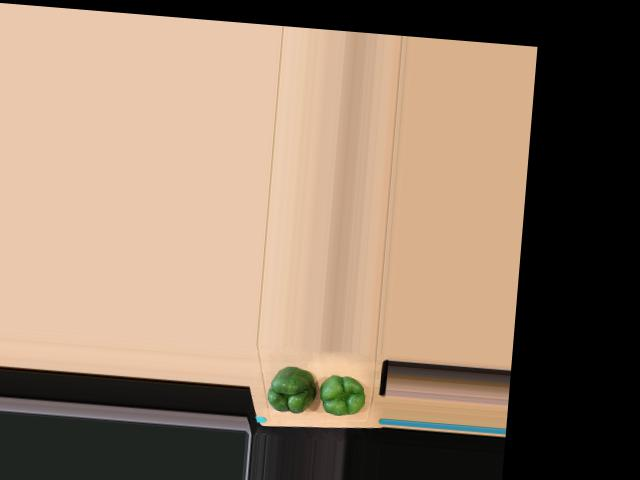bell_pepper: (316, 368, 366, 418)
